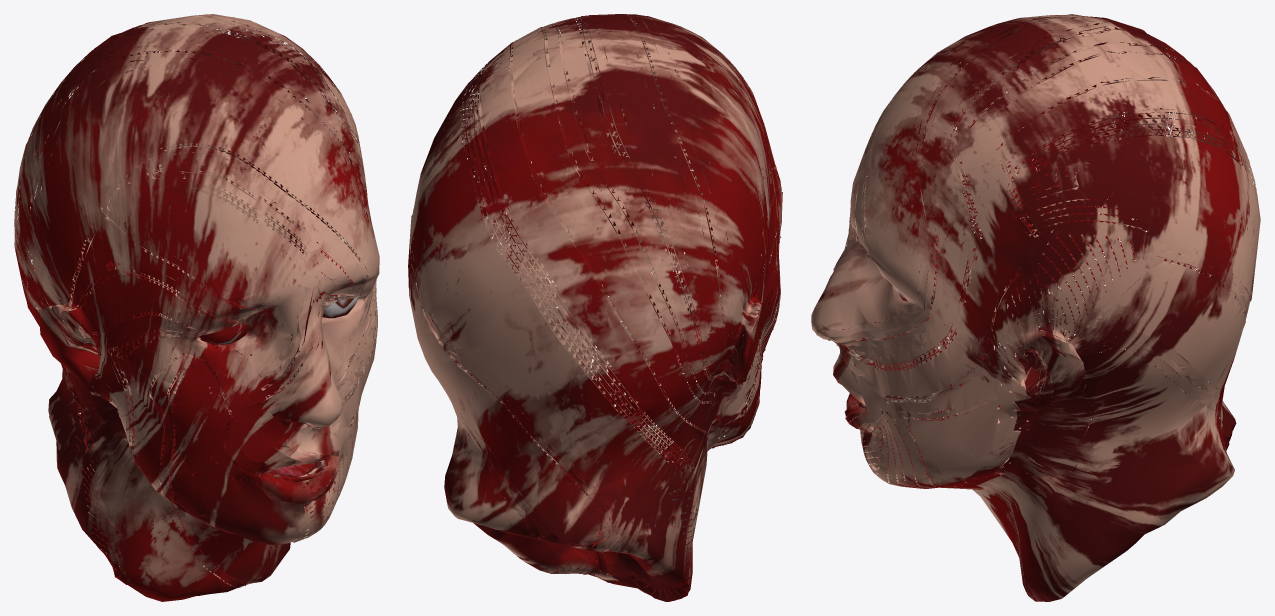
File: head.glb
3 views of the same model, side by side, from view 1: azimuth 30°, elevation 25°; view 2: azimuth 150°, elevation 25°; view 3: azimuth 270°, elevation 25° (orthographic). The views are drawn at different scales.
Parts seen in each view (by area): view 1: severed_head; view 2: severed_head; view 3: severed_head.
Boxes of the visible parts, bbox=[...] form: severed_head: bbox=[14, 14, 379, 601]; severed_head: bbox=[408, 14, 782, 601]; severed_head: bbox=[811, 14, 1260, 601].
Size of the model in its own units: 0.7664 by 1.29 by 0.961.
Materials: 1 (1 with a texture image).
